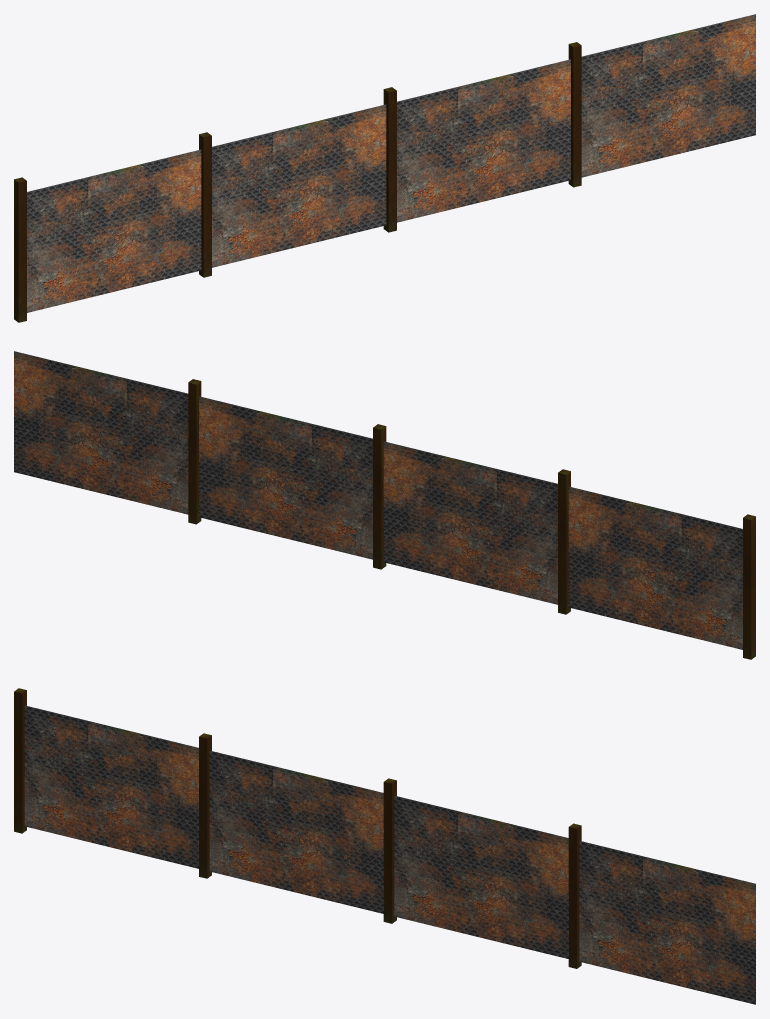
Rendered from 3D_Natozaun_001.fbx.
The picture shows the model from 3 angles, top to bottom: view 1: azimuth 30°, elevation 25°; view 2: azimuth 150°, elevation 25°; view 3: azimuth 330°, elevation 25°; orthographic projection.
Visible parts, largest first — view 1: Natozaun_001; view 2: Natozaun_001; view 3: Natozaun_001.
Boxes of the visible parts, <box> form: Natozaun_001: <box>14,14,755,322</box>; Natozaun_001: <box>14,351,755,659</box>; Natozaun_001: <box>14,688,755,1004</box>.
Size of the model in its own units: 34.81 by 6.3 by 0.3901.
